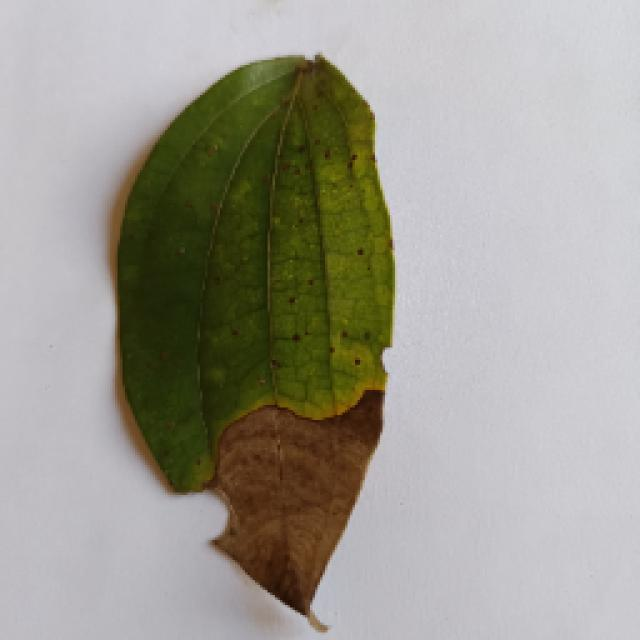footrot: (107, 58, 395, 630)
